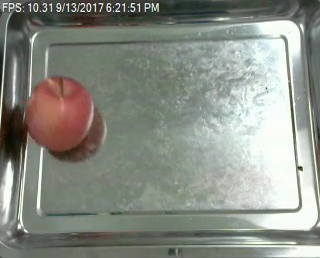Apple: (28, 77, 90, 151)
